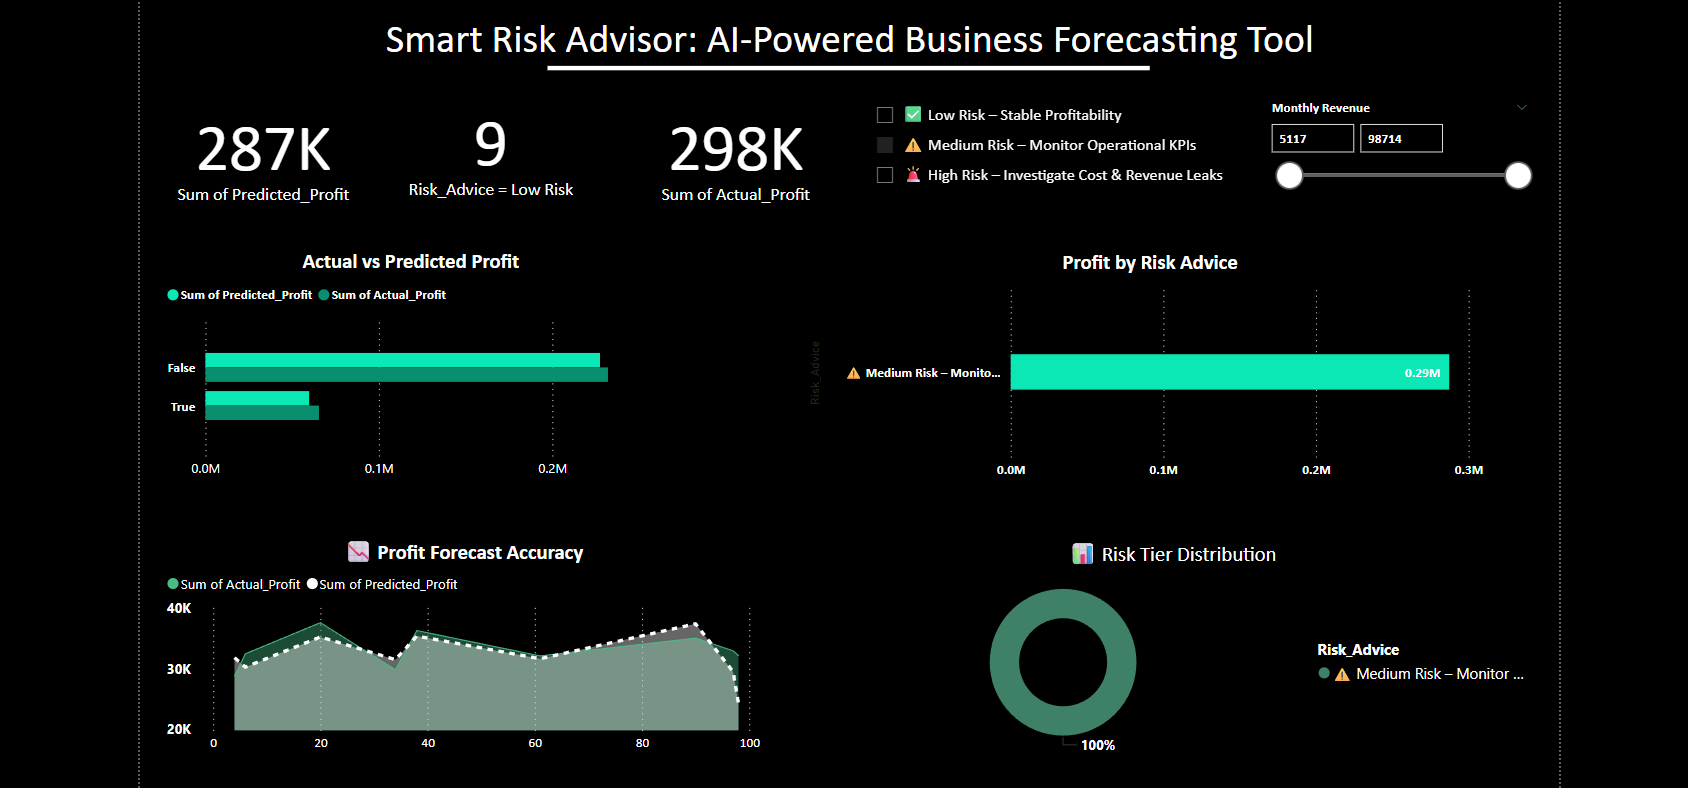

Layout of this report page (visuals, bound fields, positions):
{"tool":"powerbi","page":{"name":"Page 1","canvas":[1280,720],"ordinal":0},"visuals":[{"type":"clusteredBarChart","title":"Profit by Risk Advice","fields":{"Category":["Smart_Risk_Advisor_Output.Risk_Advice"],"Y":["Sum(Smart_Risk_Advisor_Output.Predicted_Profit)"]},"box":[598.8,229.1,624.4,215.1],"z":0},{"type":"textbox","title":"Smart Risk Advisor: AI-Powered Business Forecasting Tool","box":[0,16.3,1280.2,48.8],"z":1000},{"type":"shape","box":[367.4,40.7,543,48.8],"z":2000},{"type":"card","fields":{"Values":["CountNonNull(Smart_Risk_Advisor_Output.Risk_Flag_Low)"]},"box":[214,84.9,204.7,103.5],"z":3000},{"type":"card","fields":{"Values":["Sum(Smart_Risk_Advisor_Output.Predicted_Profit)"]},"box":[9.3,89.5,204.7,103.5],"z":4000},{"type":"card","fields":{"Values":["Sum(Smart_Risk_Advisor_Output.Actual_Profit)"]},"box":[434.9,89.5,204.7,103.5],"z":5000},{"type":"slicer","fields":{"Values":["Smart_Risk_Advisor_Output.Monthly_Revenue"]},"box":[1008.1,89.5,255.8,95.3],"z":6000},{"type":"slicer","fields":{"Values":["Smart_Risk_Advisor_Output.Risk_Advice"]},"box":[651.2,89.5,345.3,103.5],"z":7000},{"type":"clusteredBarChart","title":"Actual vs Predicted Profit","fields":{"Y":["Sum(Smart_Risk_Advisor_Output.Predicted_Profit)","Sum(Smart_Risk_Advisor_Output.Actual_Profit)"],"Category":["Smart_Risk_Advisor_Output.Business_Sector_Logistics","Smart_Risk_Advisor_Output.Business_Sector_Retail","Smart_Risk_Advisor_Output.Business_Sector_Healthcare","Smart_Risk_Advisor_Output.Business_Sector_Manufacturing"]},"box":[18.6,227.9,450,216.3],"z":8000},{"type":"lineChart","title":"📉 Profit Forecast Accuracy","fields":{"Category":["Smart_Risk_Advisor_Output.Forecast_Index"],"Y":["Sum(Smart_Risk_Advisor_Output.Actual_Profit)","Sum(Smart_Risk_Advisor_Output.Predicted_Profit)"]},"box":[18.6,488.4,545.4,202.3],"z":8001},{"type":"donutChart","title":"📊 Risk Tier Distribution","fields":{"Category":["Smart_Risk_Advisor_Output.Risk_Advice"],"Y":["Count(Smart_Risk_Advisor_Output.Risk_Advice)"]},"box":[598.8,489.5,665.1,201.2],"z":8002}]}

Visuals, with their boxes on the page's 1280x720 design canvas (x1, y1, x2, y2). These are canvas units, not pixel positions in the 1688x788 screenshot, which may show the page scaled, cropped or inside an application window:
"Profit by Risk Advice" clusteredBarChart: (left=599, top=229, right=1223, bottom=444)
"Smart Risk Advisor: AI-Powered Business Forecasting Tool" textbox: (left=0, top=16, right=1280, bottom=65)
shape: (left=367, top=41, right=910, bottom=90)
card - CountNonNull(Smart_Risk_Advisor_Output.Risk_Flag_Low): (left=214, top=85, right=419, bottom=188)
card - Sum(Smart_Risk_Advisor_Output.Predicted_Profit): (left=9, top=90, right=214, bottom=193)
card - Sum(Smart_Risk_Advisor_Output.Actual_Profit): (left=435, top=90, right=640, bottom=193)
slicer - Smart_Risk_Advisor_Output.Monthly_Revenue: (left=1008, top=90, right=1264, bottom=185)
slicer - Smart_Risk_Advisor_Output.Risk_Advice: (left=651, top=90, right=996, bottom=193)
"Actual vs Predicted Profit" clusteredBarChart: (left=19, top=228, right=469, bottom=444)
"📉 Profit Forecast Accuracy" lineChart: (left=19, top=488, right=564, bottom=691)
"📊 Risk Tier Distribution" donutChart: (left=599, top=490, right=1264, bottom=691)
